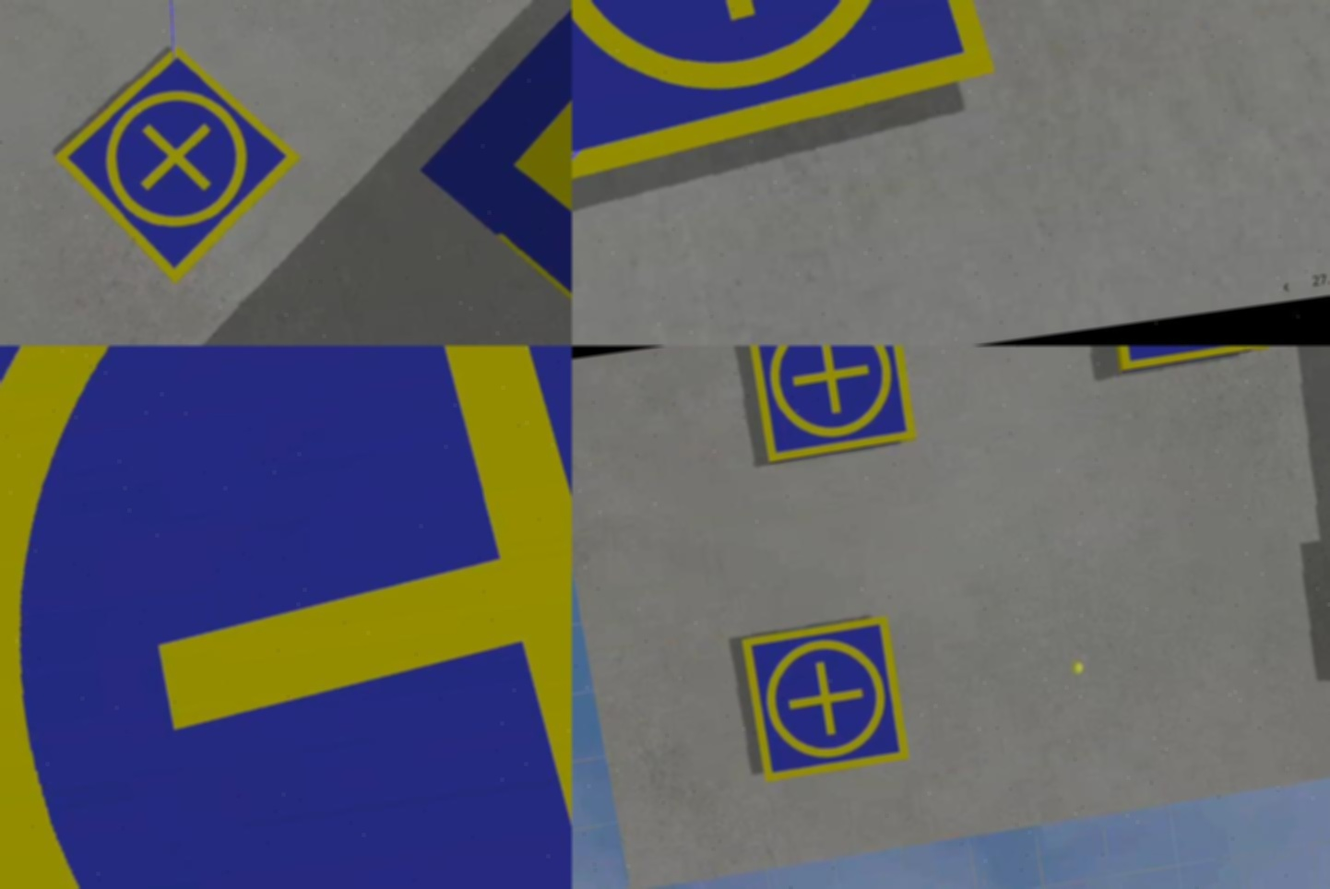large_base: (386, 1, 573, 347)
small_base: (1, 347, 573, 889), (573, 1, 1003, 190), (42, 33, 318, 301), (742, 615, 915, 786), (747, 347, 920, 465), (1105, 347, 1276, 371)
